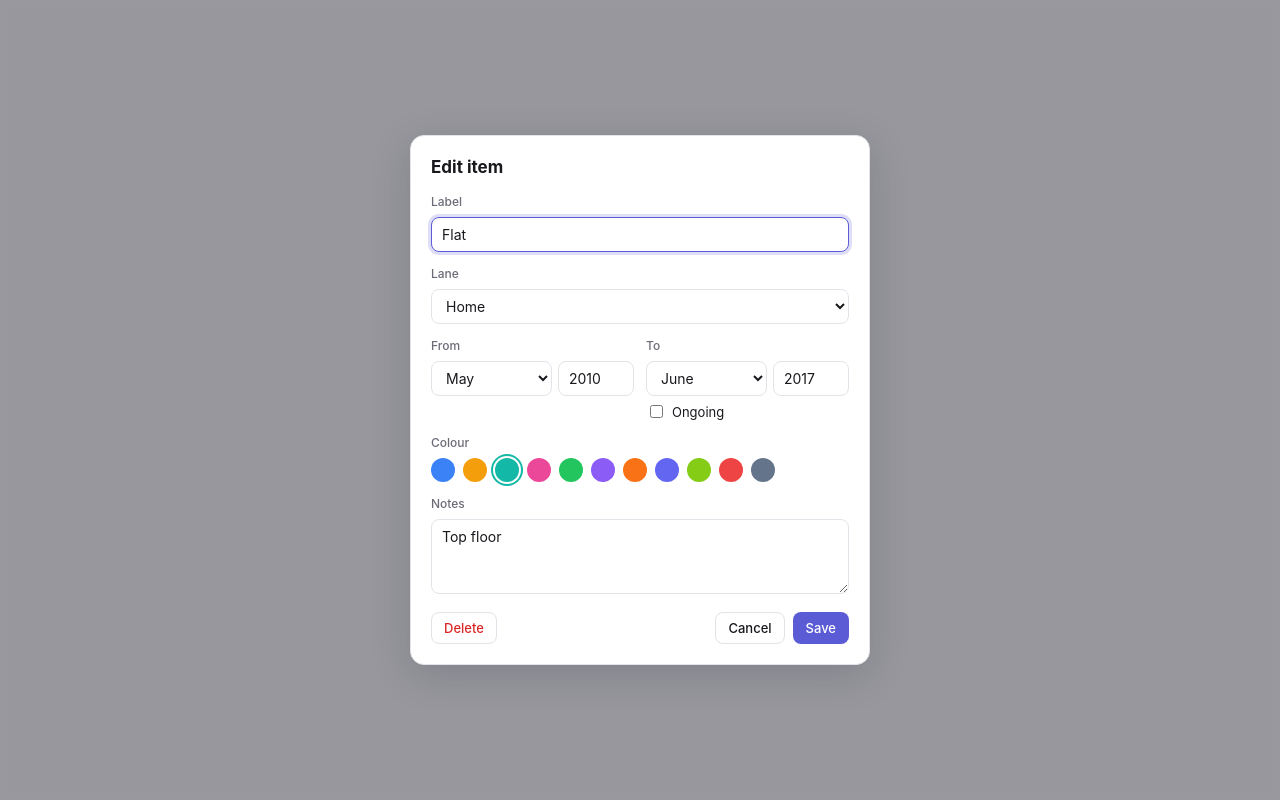
Test: ItemDialog › marks an item as ongoing, and back again
Click the checkbox labelled "Ongoing": coordinates (656, 412) [650,405,663,418]
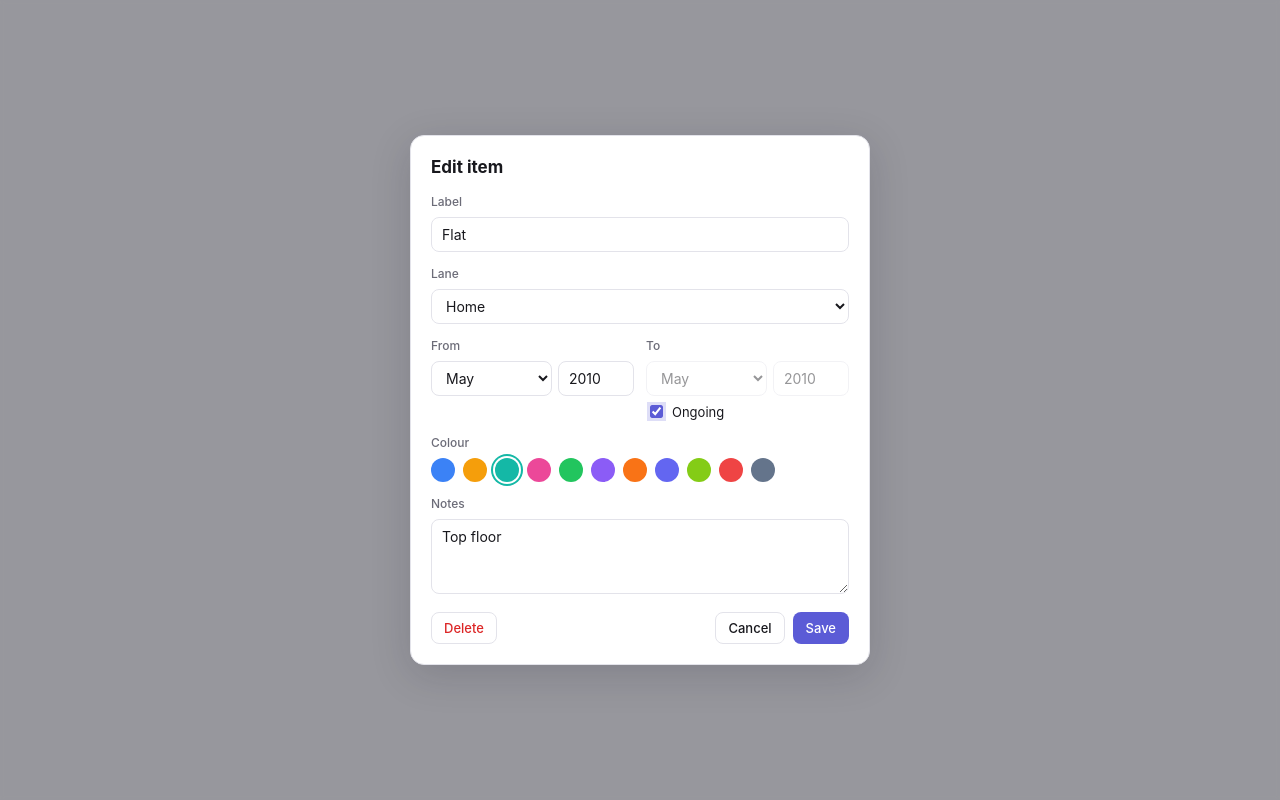
Expected: the dropdown named "Month" below "To" is disabled, [646,361,767,396]
Expected: the number field named "Year" below "To" is disabled, [773,361,849,396]
Click the button "Save": coordinates (821, 628) [793,612,849,644]
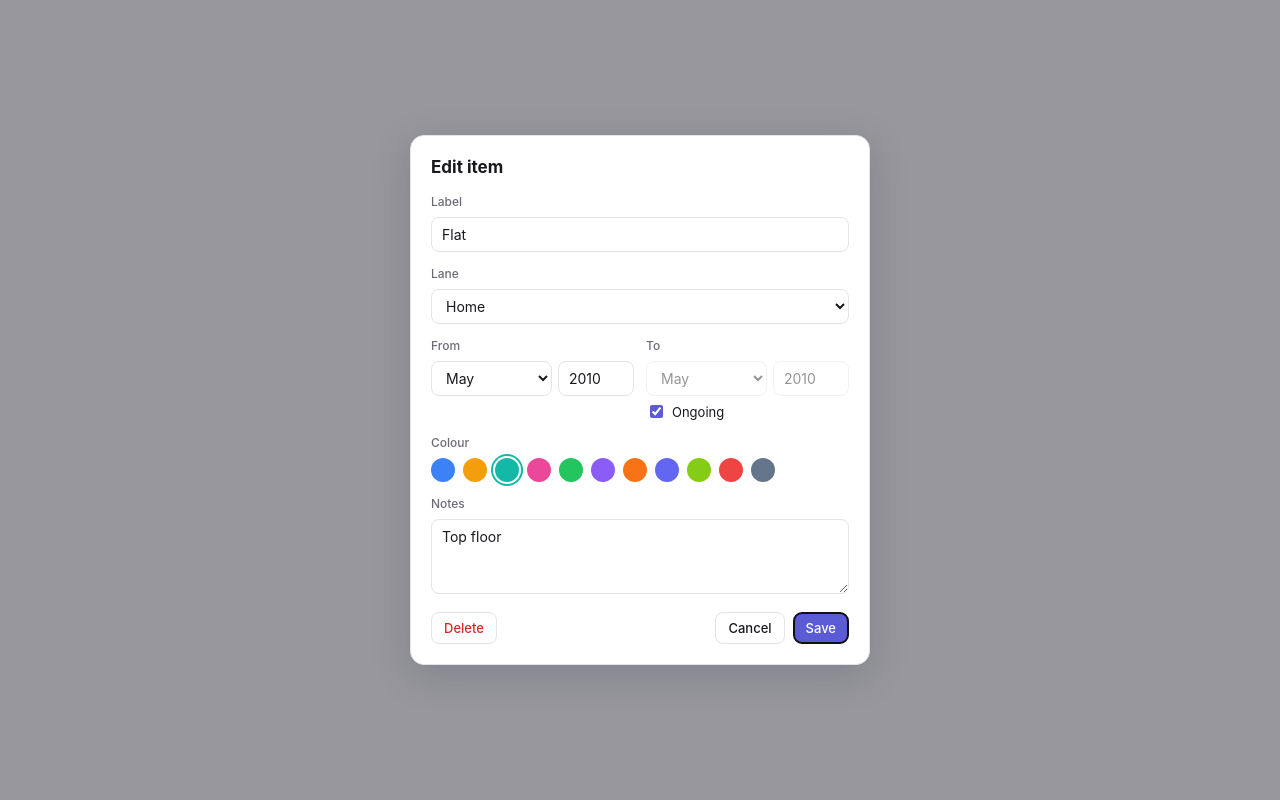
Click the checkbox labelled "Ongoing": coordinates (656, 412) [650,405,663,418]
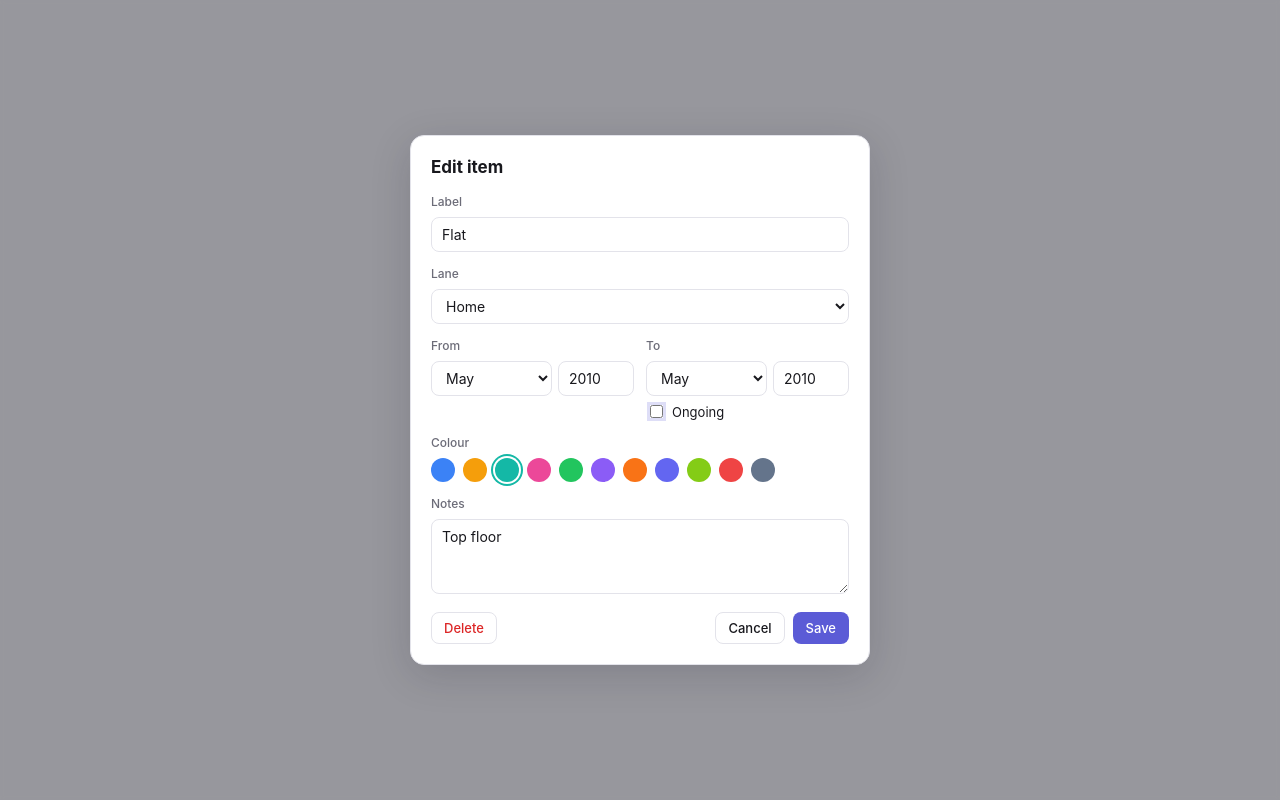
Expected: the number field named "Year" below "To" holds "2010", [773,361,849,396]
Expected: the dropdown named "Month" below "To" is enabled, [646,361,767,396]
